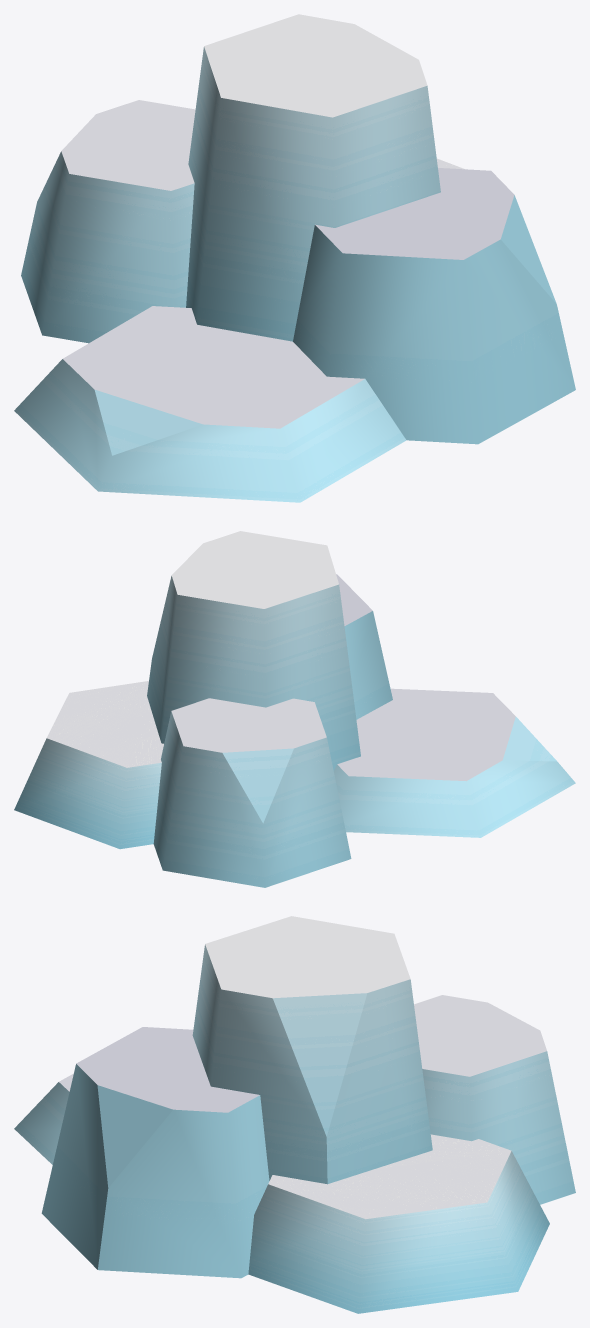
The model's file is tower-defense-kit--snow-detail-rocks-large.glb.
3 views of the same model, one above another, from view 1: azimuth 30°, elevation 25°; view 2: azimuth 150°, elevation 25°; view 3: azimuth 270°, elevation 25° (orthographic). The views are drawn at different scales.
Visible parts, largest first — view 1: snow-detail-rocks-large; view 2: snow-detail-rocks-large; view 3: snow-detail-rocks-large.
Part boxes in pixels (x1,y1,x2,y2): snow-detail-rocks-large: (14, 14, 575, 502); snow-detail-rocks-large: (14, 531, 575, 887); snow-detail-rocks-large: (14, 916, 575, 1313).
Size of the model in its own units: 0.8922 by 0.4145 by 0.8593.
Materials: 1 (1 with a texture image).
